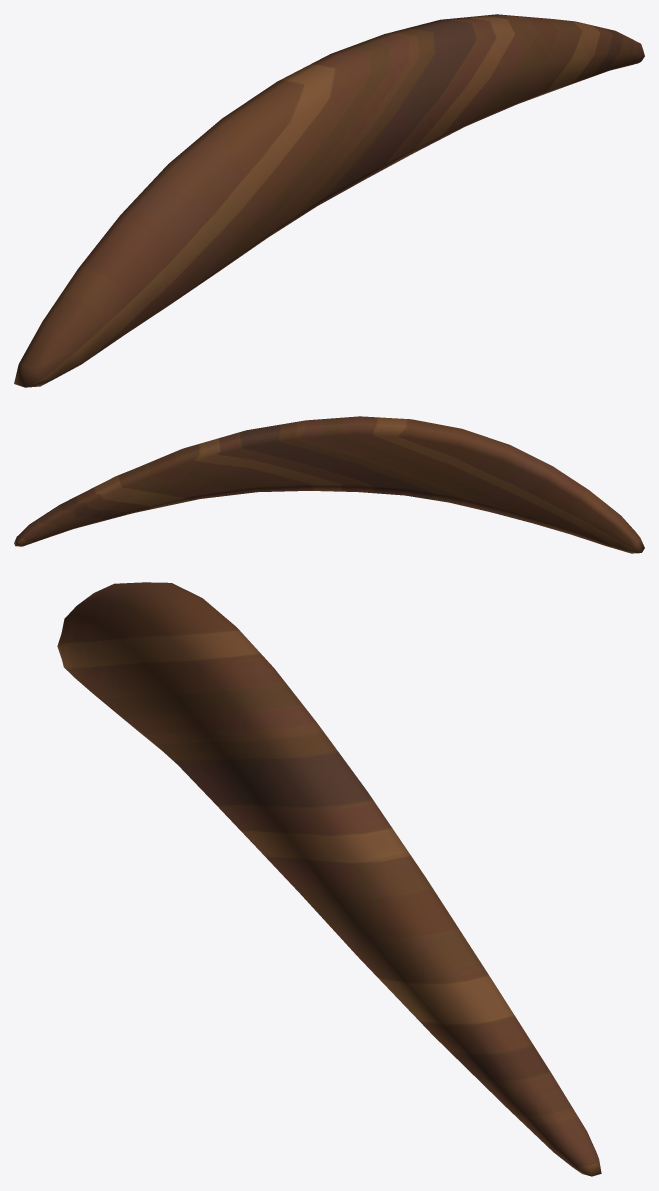
File: JOJO_brow_L.FBX
3 views of the same model, one above another, from view 1: azimuth 30°, elevation 25°; view 2: azimuth 150°, elevation 25°; view 3: azimuth 270°, elevation 25° (orthographic). The views are drawn at different scales.
Visible parts, largest first — view 1: JOJO_brow_L; view 2: JOJO_brow_L; view 3: JOJO_brow_L.
Boxes of the visible parts, <box> form: JOJO_brow_L: <box>14,14,644,387</box>; JOJO_brow_L: <box>14,416,644,553</box>; JOJO_brow_L: <box>57,582,601,1176</box>.
Bounding box in the file's own units: 6.89 × 1.68 × 3.24.
